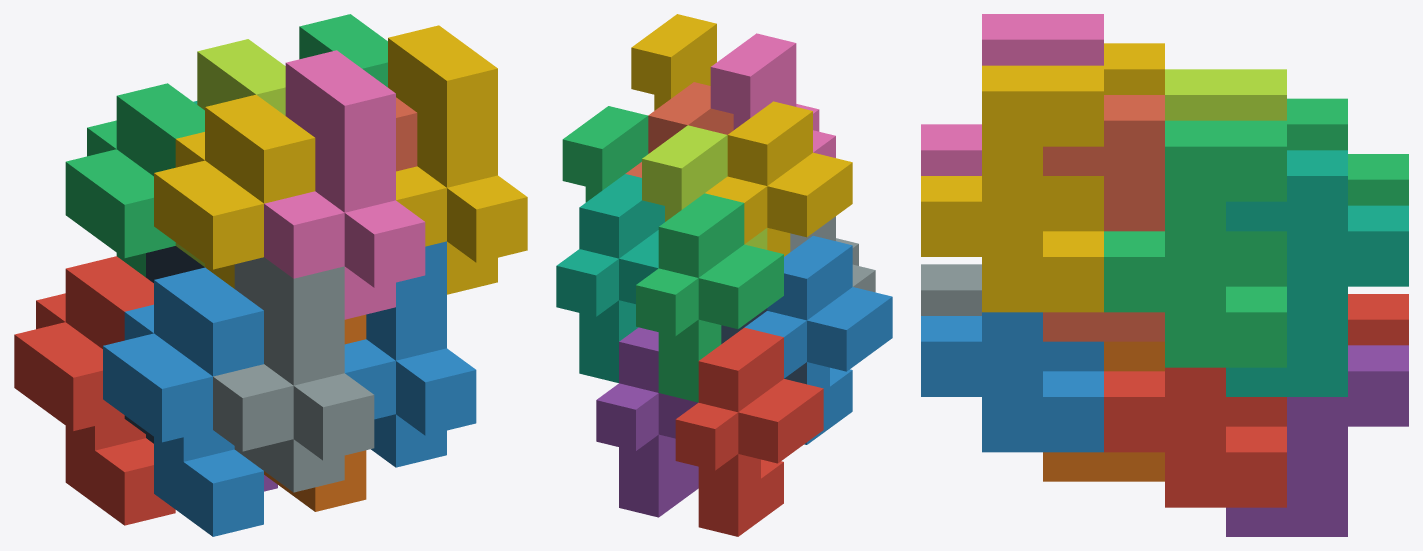
File: tiling.obj
3 renders of one model, left to right at view 1: azimuth 30°, elevation 25°; view 2: azimuth 150°, elevation 25°; view 3: azimuth 270°, elevation 25°, orthographic. The views are drawn at different scales.
Visible parts, largest first — view 1: copy_1_domain_2, copy_2_domain_4, copy_2_domain_2, copy_2_domain_8, copy_1_domain_1, copy_1_domain_4, copy_2_domain_6, copy_1_domain_3, copy_2_domain_3, copy_2_domain_7, copy_1_domain_6, copy_2_domain_1 (+1 smaller); view 2: copy_1_domain_1, copy_1_domain_3, copy_1_domain_2, copy_1_domain_7, copy_1_domain_4, copy_1_domain_5, copy_2_domain_4, copy_2_domain_3, copy_2_domain_8, copy_2_domain_7, copy_1_domain_8, copy_2_domain_2 (+1 smaller); view 3: copy_2_domain_7, copy_2_domain_8, copy_1_domain_7, copy_2_domain_5, copy_2_domain_6, copy_1_domain_5, copy_1_domain_8, copy_2_domain_4, copy_1_domain_3, copy_2_domain_3, copy_1_domain_6, copy_1_domain_1 (+2 smaller).
Part boxes in pixels (<box>): copy_1_domain_2: <box>103,267,263,536</box>; copy_2_domain_4: <box>264,50,425,319</box>; copy_2_domain_2: <box>213,257,374,492</box>; copy_2_domain_8: <box>388,25,527,294</box>; copy_1_domain_1: <box>14,256,175,525</box>; copy_1_domain_4: <box>154,94,315,288</box>; copy_2_domain_6: <box>344,241,476,467</box>; copy_1_domain_3: <box>65,83,204,277</box>; copy_2_domain_3: <box>175,39,285,266</box>; copy_2_domain_7: <box>299,14,387,87</box>; copy_1_domain_6: <box>264,314,366,511</box>; copy_2_domain_1: <box>124,246,204,443</box>; copy_1_domain_1: <box>675,327,823,536</box>; copy_1_domain_3: <box>636,193,783,402</box>; copy_1_domain_2: <box>744,235,892,444</box>; copy_1_domain_7: <box>556,174,664,382</box>; copy_1_domain_4: <box>705,101,852,256</box>; copy_1_domain_5: <box>596,327,698,517</box>; copy_2_domain_4: <box>710,33,835,157</box>; copy_2_domain_3: <box>642,125,767,249</box>; copy_2_domain_8: <box>631,14,716,110</box>; copy_2_domain_7: <box>562,106,648,202</box>; copy_1_domain_8: <box>625,82,733,177</box>; copy_2_domain_2: <box>790,216,875,292</box>; copy_2_domain_7: <box>1104,120,1286,367</box>; copy_2_domain_8: <box>921,65,1103,312</box>; copy_1_domain_7: <box>1226,150,1408,396</box>; copy_2_domain_5: <box>1104,367,1286,507</box>; copy_2_domain_6: <box>921,312,1103,452</box>; copy_1_domain_5: <box>1226,345,1408,536</box>; copy_1_domain_8: <box>1043,95,1164,341</box>; copy_2_domain_4: <box>921,14,1103,175</box>; copy_1_domain_3: <box>1287,98,1408,205</box>; copy_2_domain_3: <box>1165,69,1286,120</box>; copy_1_domain_6: <box>1043,341,1164,481</box>; copy_1_domain_1: <box>1348,294,1408,345</box>.
Bounding box in the file's own units: 6 × 9 × 8.
